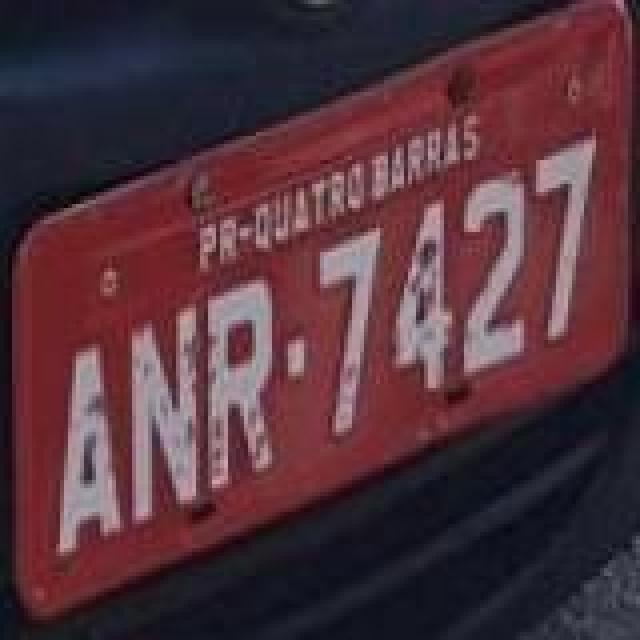2: (462, 172, 530, 380)
4: (392, 198, 456, 394)
7: (318, 224, 386, 440), (536, 136, 600, 344)
A: (54, 338, 122, 558)
N: (128, 304, 200, 528)
R: (204, 276, 276, 492)
